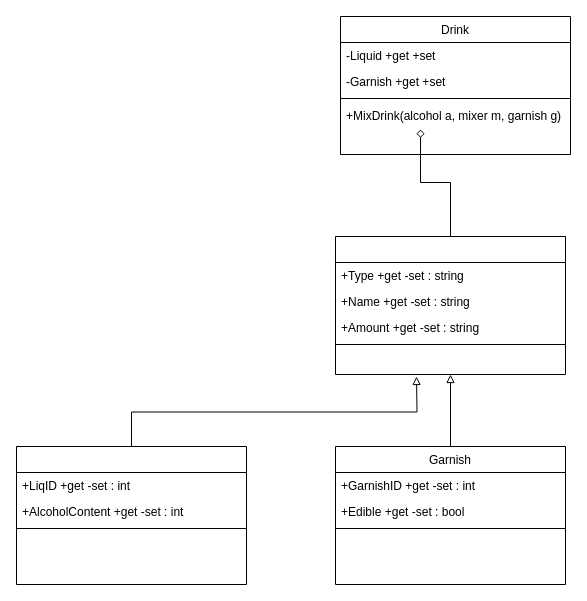
The diagram is 587 pixels wide and 601 high, and some of its shapes have lost their labels. The shapes that lost their labels are listed below. From the top down, each one's box as (x1, y1, x2, y2) in pixels, then its label:
(334, 236, 566, 374): in
(16, 446, 246, 584): Liquid
